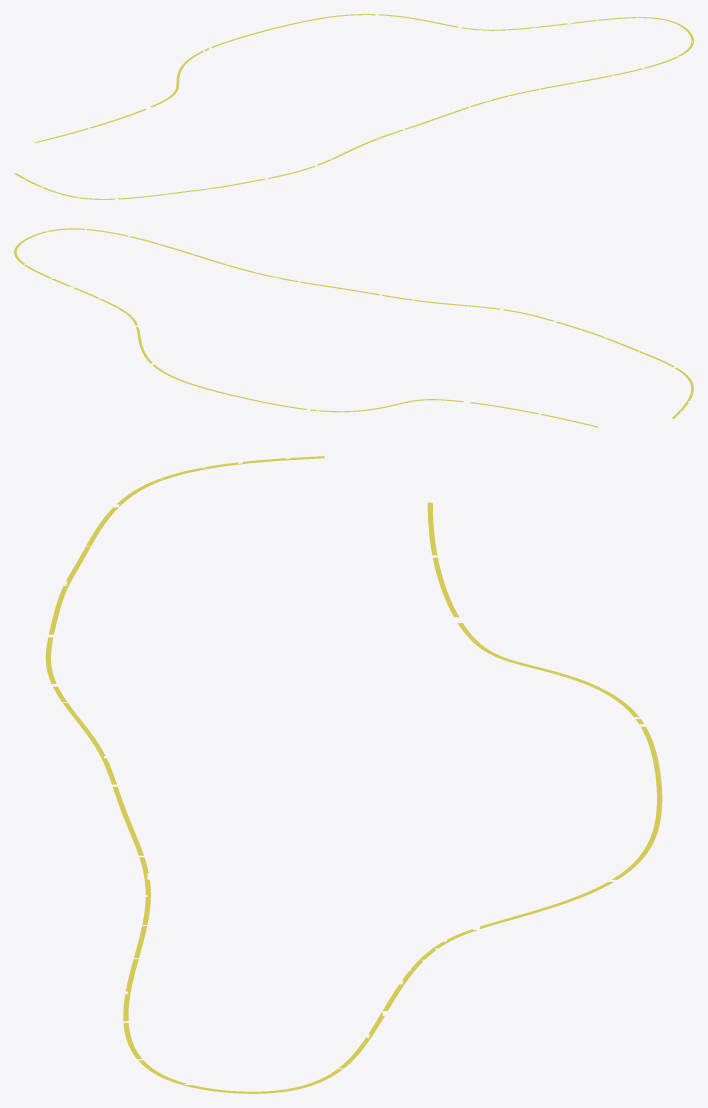
File: tape3 1.fbx
3 renders of one model, top to bottom at view 1: azimuth 30°, elevation 25°; view 2: azimuth 150°, elevation 25°; view 3: azimuth 270°, elevation 25°, orthographic. The views are drawn at different scales.
Visible parts, largest first — view 1: Plane; view 2: Plane; view 3: Plane.
Part boxes in pixels (left/top/right/bottom): Plane: left=14, top=14, right=693, bottom=199; Plane: left=14, top=228, right=693, bottom=427; Plane: left=45, top=456, right=662, bottom=1093.
Size of the model in its own units: 2307 by 4.16e-05 by 942.
Materials: 1 (1 with a texture image).
